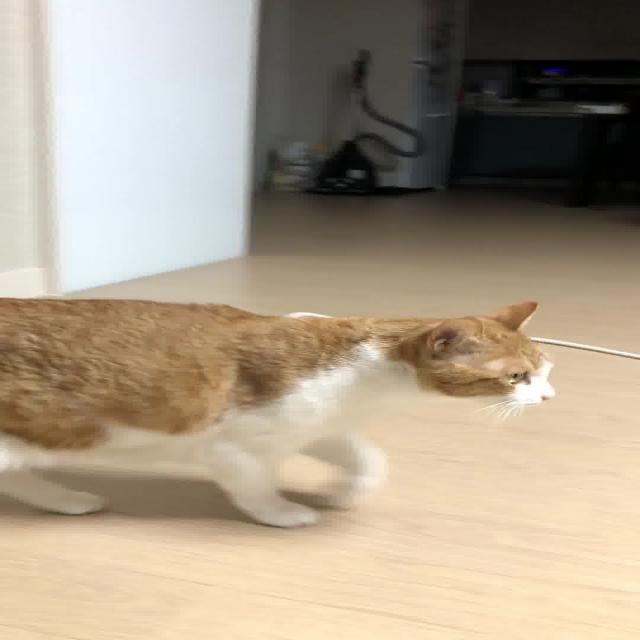cat: (0, 260, 606, 546)
